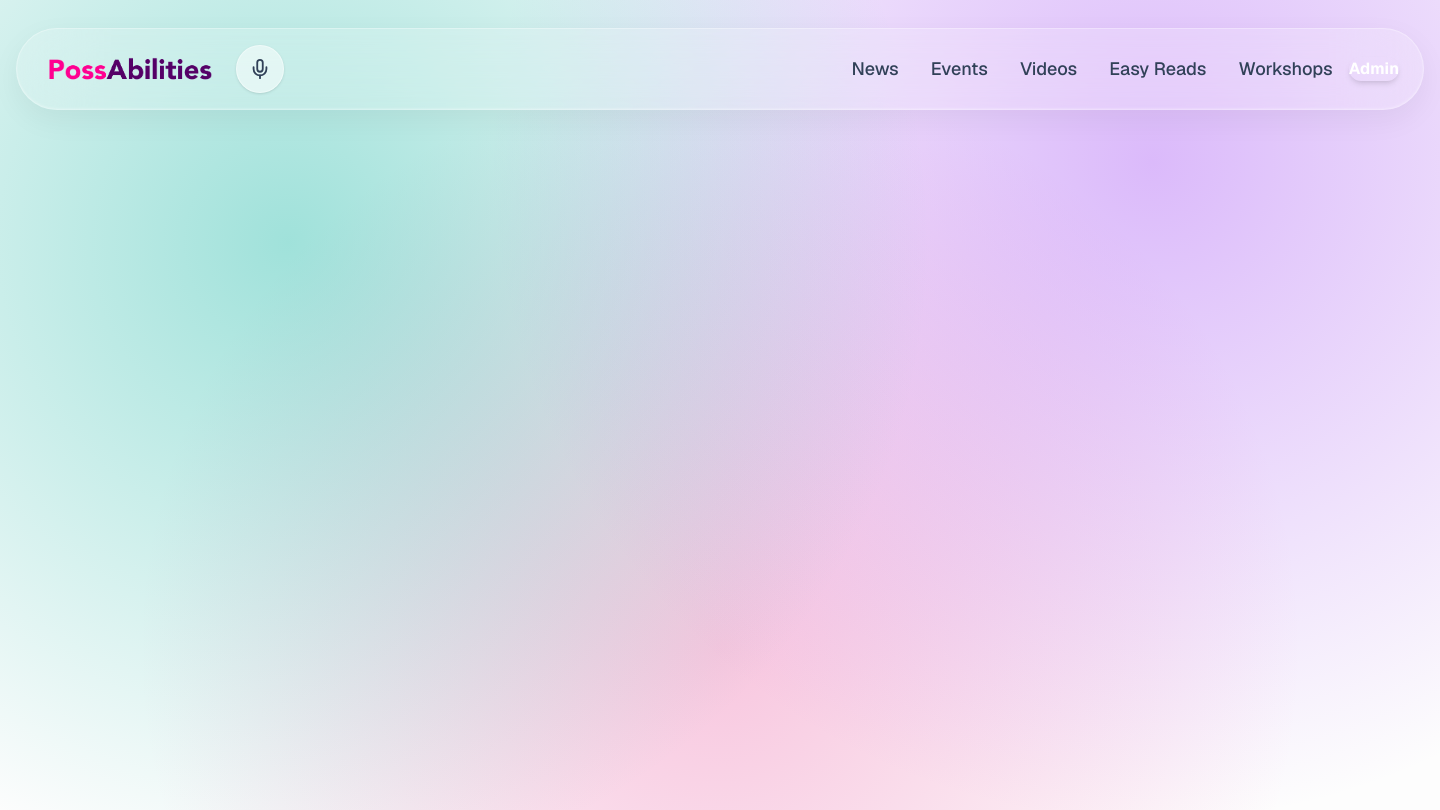
Navbar Component › Voice Search Functionality › handles unknown commands with an error message
What coordinates should you click on to do the following:
click the button named "Start voice search"
I would click on:
 (260, 69)
Its box is [236,45,284,93].
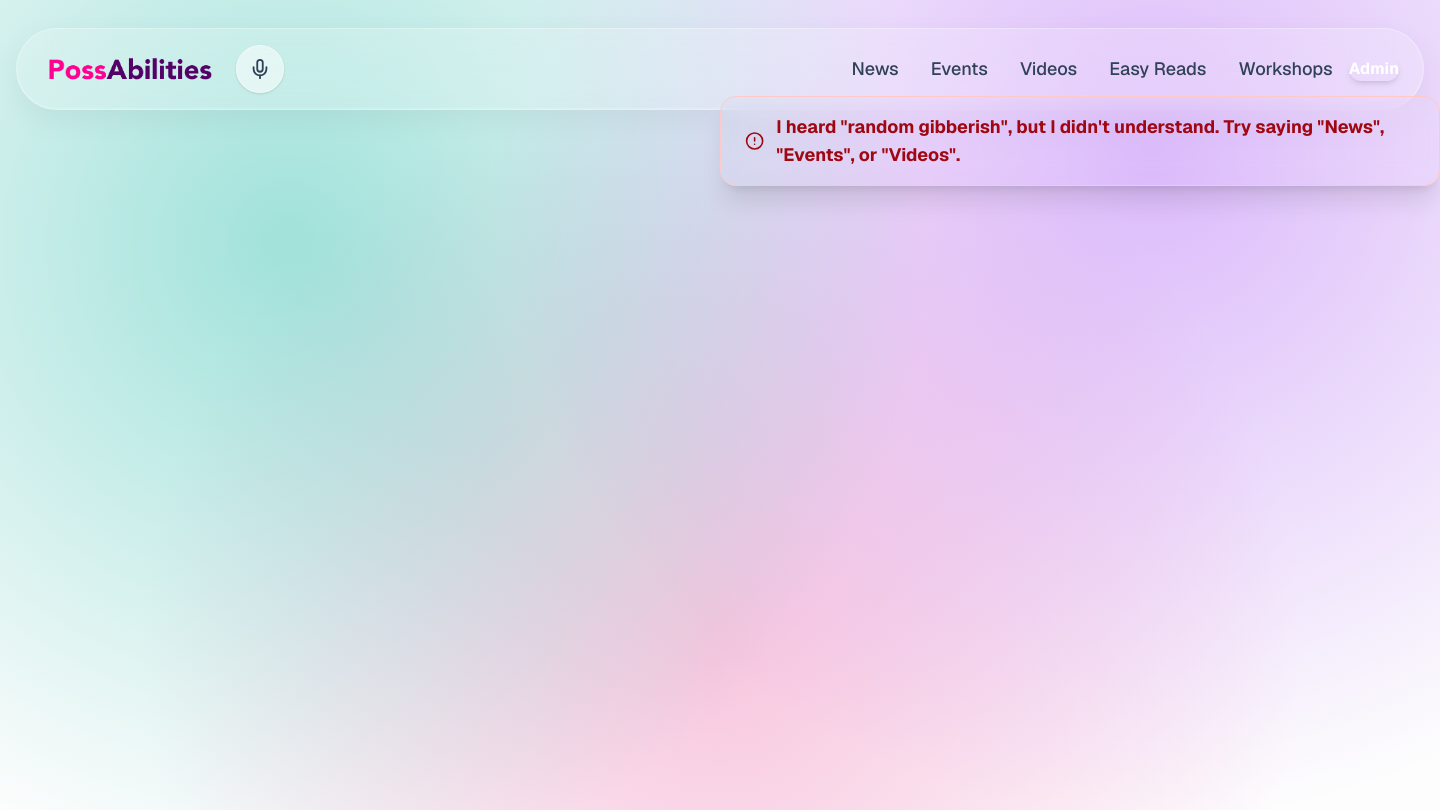
Expected: the text "I heard \"random gibberish\", but I didn't understand" is shown, [776,115,1384,166]
